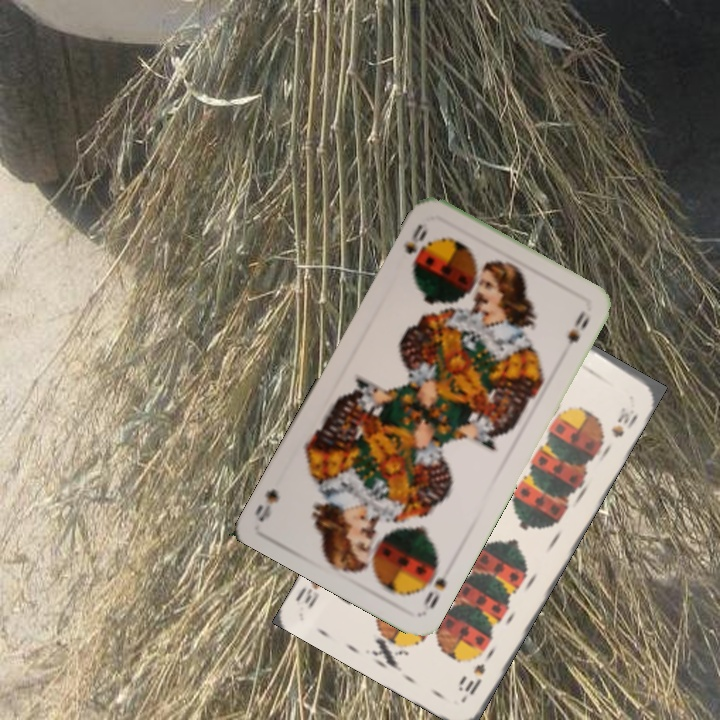S10: (456, 659, 488, 699)
SO: (419, 556, 449, 615), (399, 219, 430, 274)
